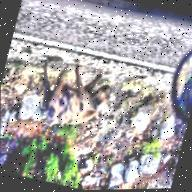boar: (22, 37, 131, 156)
